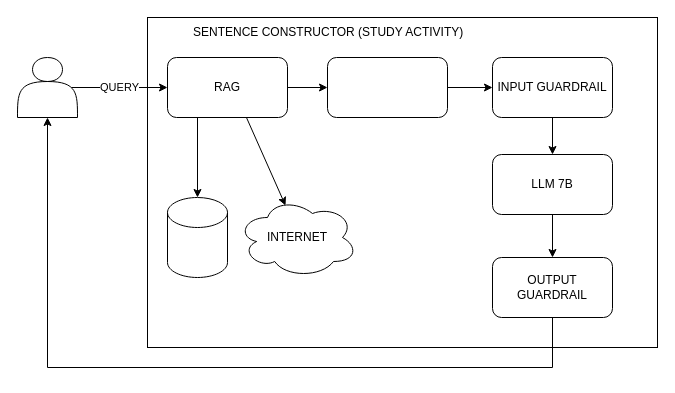
Image size: 675x393. Some labels were removed from this diagram. The shapes that lost their labels are listed below. From the top down, each one's box as (x1, y1, x2, y2) in pixels, then its label:
(16, 56, 78, 118): Student
(326, 56, 448, 118): PROMPT CACHE
(166, 196, 228, 278): VECTOR DB
